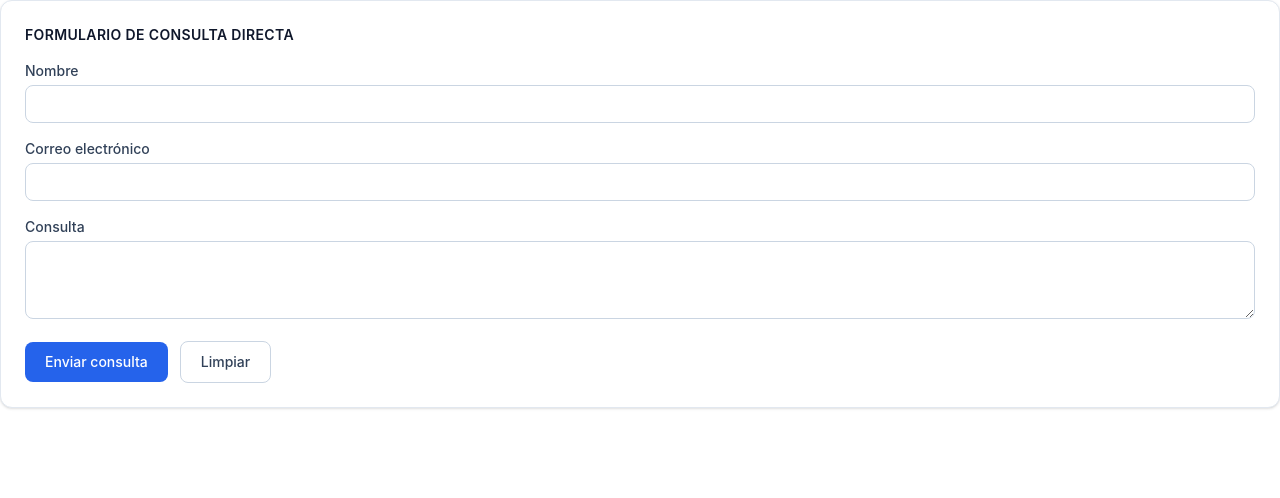
Test: FormularioConsulta › muestra errores al enviar el formulario vacío
Step 1. Click the button "Enviar consulta" → {"x": 96, "y": 362}, box top-left (25, 342), bottom-right (168, 382)
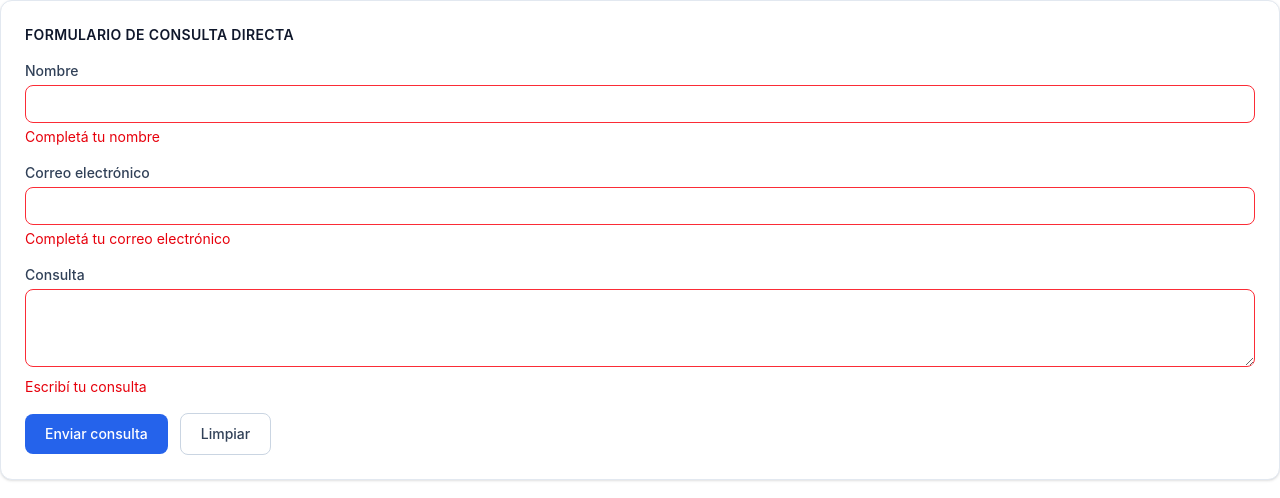
Expected: the text "Completá tu nombre" is shown, top-left (25, 128), bottom-right (160, 145)
Expected: the text "Completá tu correo electrónico" is shown, top-left (25, 230), bottom-right (230, 247)
Expected: the text "Escribí tu consulta" is shown, top-left (25, 378), bottom-right (147, 395)
